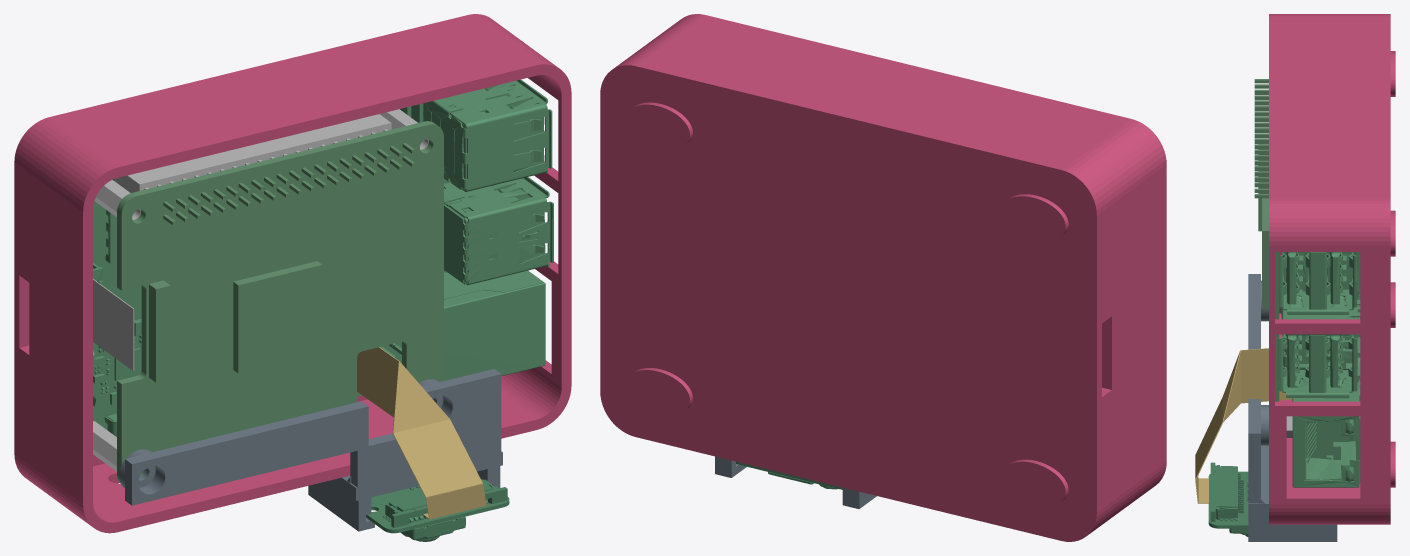
Rendered from pi-assembly.glb.
3 renders of one model, left to right at view 1: azimuth 30°, elevation 25°; view 2: azimuth 150°, elevation 25°; view 3: azimuth 270°, elevation 25°, orthographic. The views are drawn at different scales.
Visible parts, largest first — view 1: AI HAT+ 13 TOPS, Case base + frame (approx), Raspberry Pi 5, Camera mount (printed), HAT spacers + stacking header + PCIe FFC, Camera ribbon cable, Camera Module 3; view 2: Case base + frame (approx), Camera mount (printed); view 3: Case base + frame (approx), Raspberry Pi 5, Camera mount (printed), Camera ribbon cable, AI HAT+ 13 TOPS, Camera Module 3.
Part boxes in pixels (bbox=[...]): AI HAT+ 13 TOPS: bbox=[117, 121, 443, 483]; Case base + frame (approx): bbox=[14, 14, 571, 533]; Raspberry Pi 5: bbox=[93, 79, 553, 436]; Camera mount (printed): bbox=[119, 369, 502, 531]; HAT spacers + stacking header + PCIe FFC: bbox=[93, 109, 428, 471]; Camera ribbon cable: bbox=[357, 347, 486, 519]; Camera Module 3: bbox=[366, 479, 509, 541]; Case base + frame (approx): bbox=[600, 14, 1166, 541]; Camera mount (printed): bbox=[715, 456, 876, 508]; Case base + frame (approx): bbox=[1269, 14, 1395, 524]; Raspberry Pi 5: bbox=[1278, 252, 1360, 487]; Camera mount (printed): bbox=[1248, 274, 1337, 541]; Camera ribbon cable: bbox=[1195, 348, 1292, 503]; AI HAT+ 13 TOPS: bbox=[1254, 79, 1279, 401]; Camera Module 3: bbox=[1208, 462, 1248, 536].
Size of the model in its own units: 98.5 by 84.15 by 39.54.
